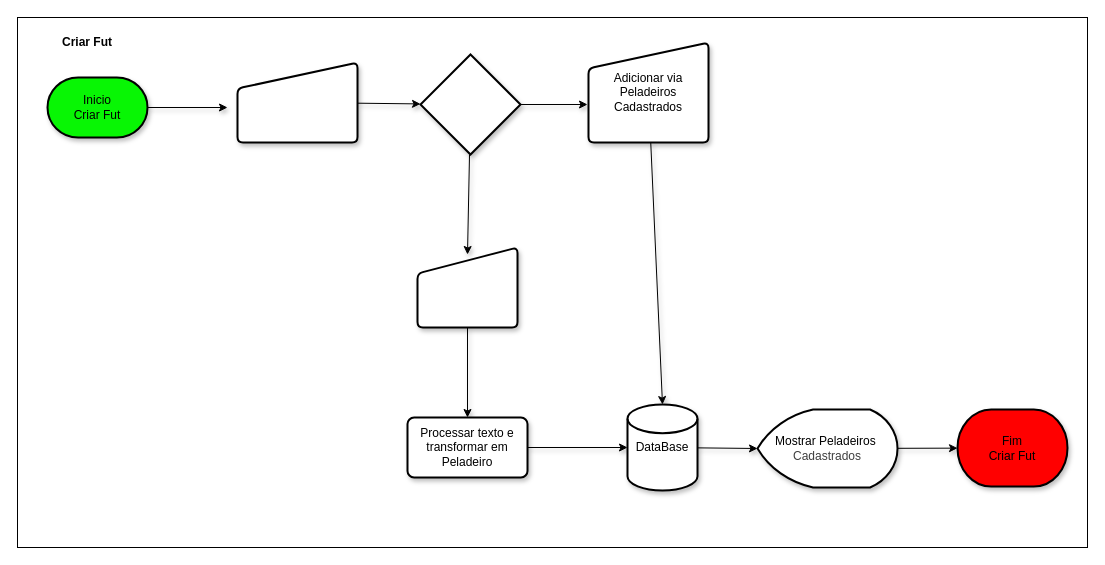
This 1105x565 diagram has some shape labels left out. The centre of each missing label's shape, as x and y in pixels:
Adicionar Peladeiros: the point at 471,105
Adicionar Via Lista em Texto: the point at 468,288
Receber Dados de Cadastro: the point at 298,103
